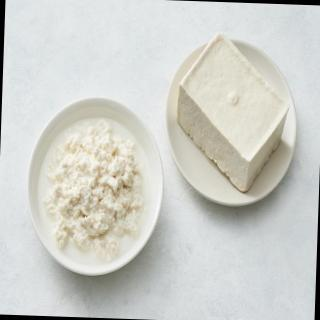Tahu: (149, 27, 312, 204)
